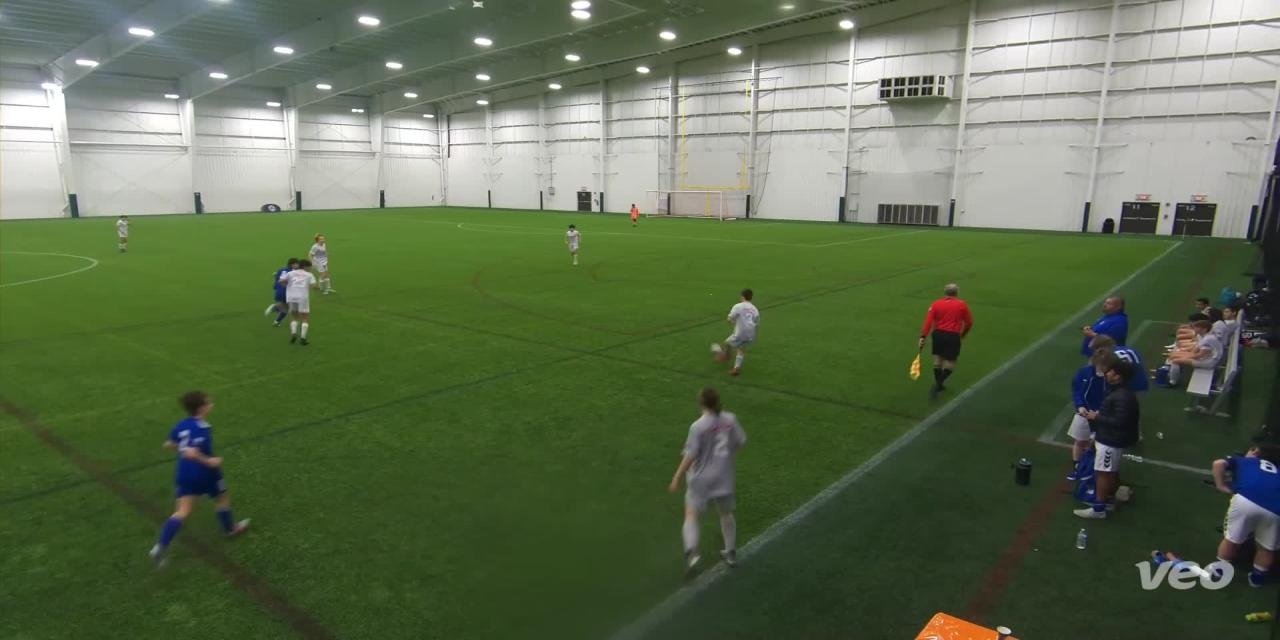goal: (634, 186, 746, 225)
sports ball: (701, 336, 727, 362)
